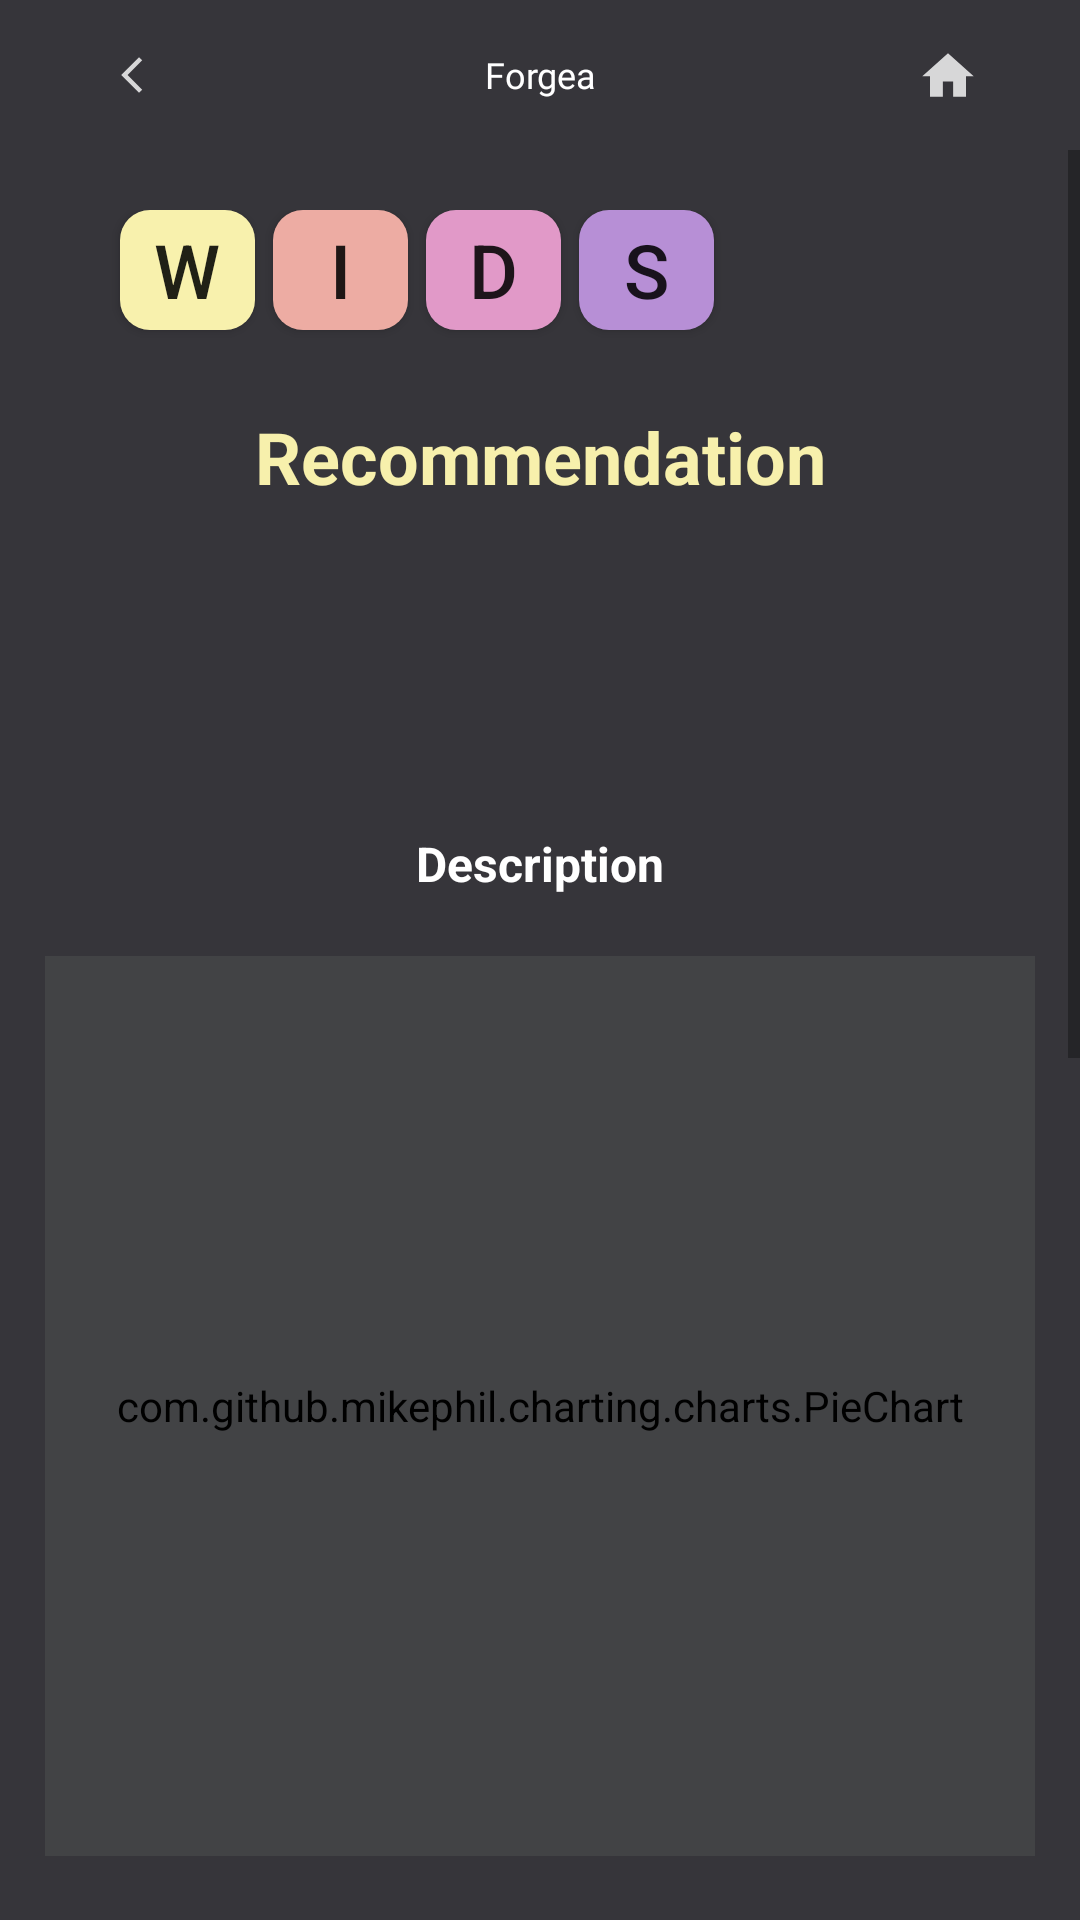

Where to tap for icons on this 1080w x 1920h app screen, as (x=x, y=y):
back arrow: (x=131, y=75)
home: (x=948, y=75)
